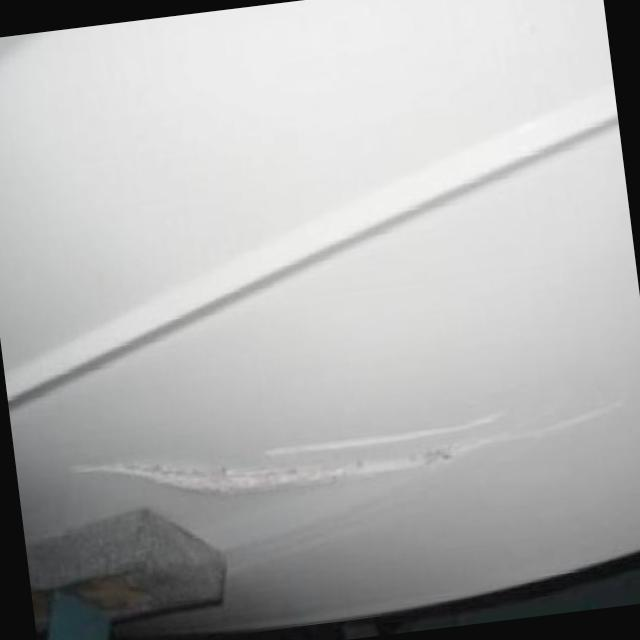crack: (72, 399, 624, 492)
